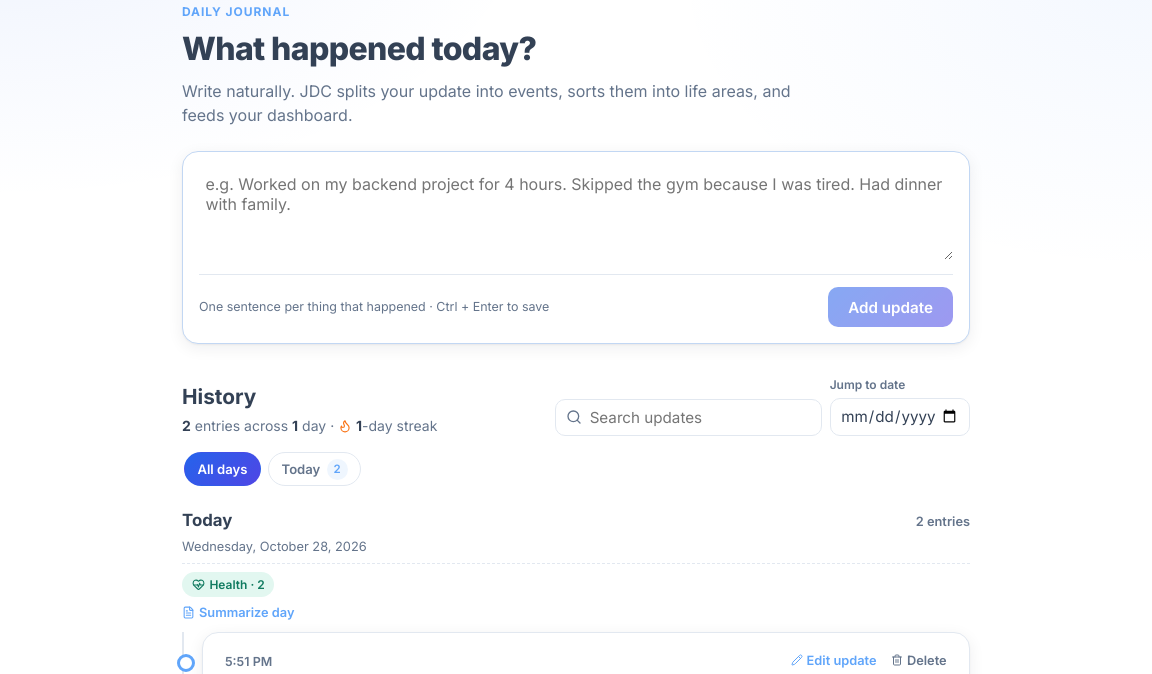
Test: Updates search › filters history by what was written or by an extracted statement
Step 1. Type "GYM" into the search field named "Search your updates" → x=688, y=417, box [555, 398, 822, 436]
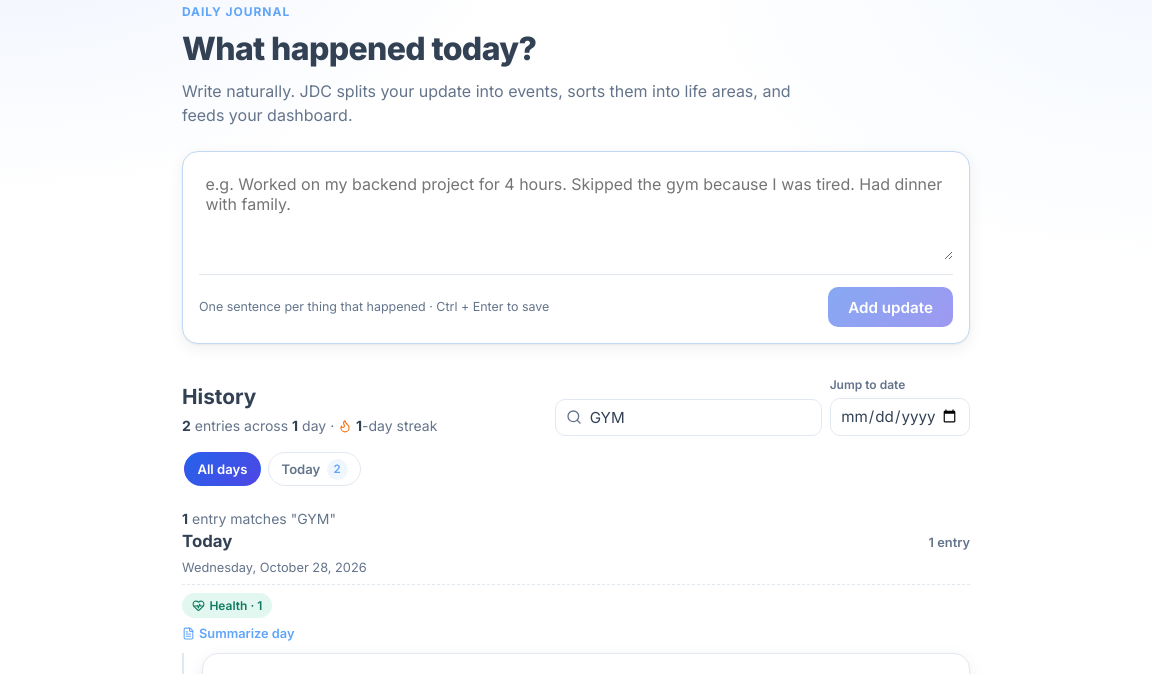
Expected: the text "1 entry matches \"GYM\"" is shown, [182, 510, 336, 527]
Step 2. Replace the text in the search field named "Search your updates" with "payment" → x=688, y=417, box [555, 398, 822, 436]
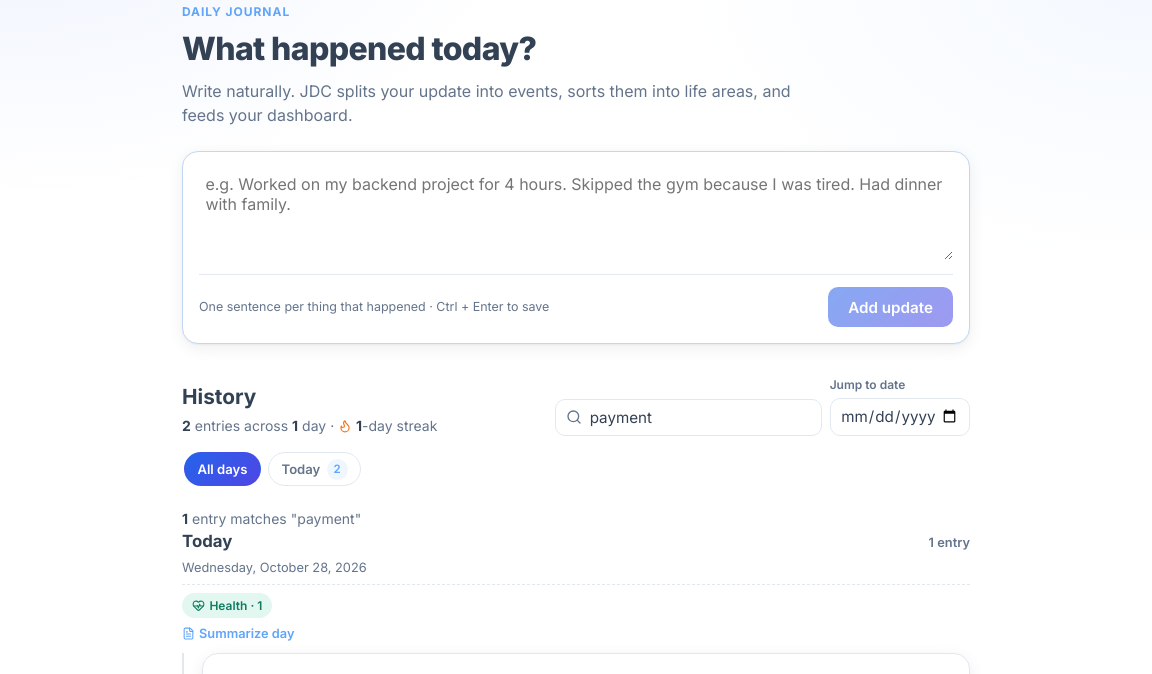
Expected: the list item "Went to the gym" is not shown
Step 3. Replace the text in the search field named "Search your updates" with "swimming" → x=688, y=417, box [555, 398, 822, 436]
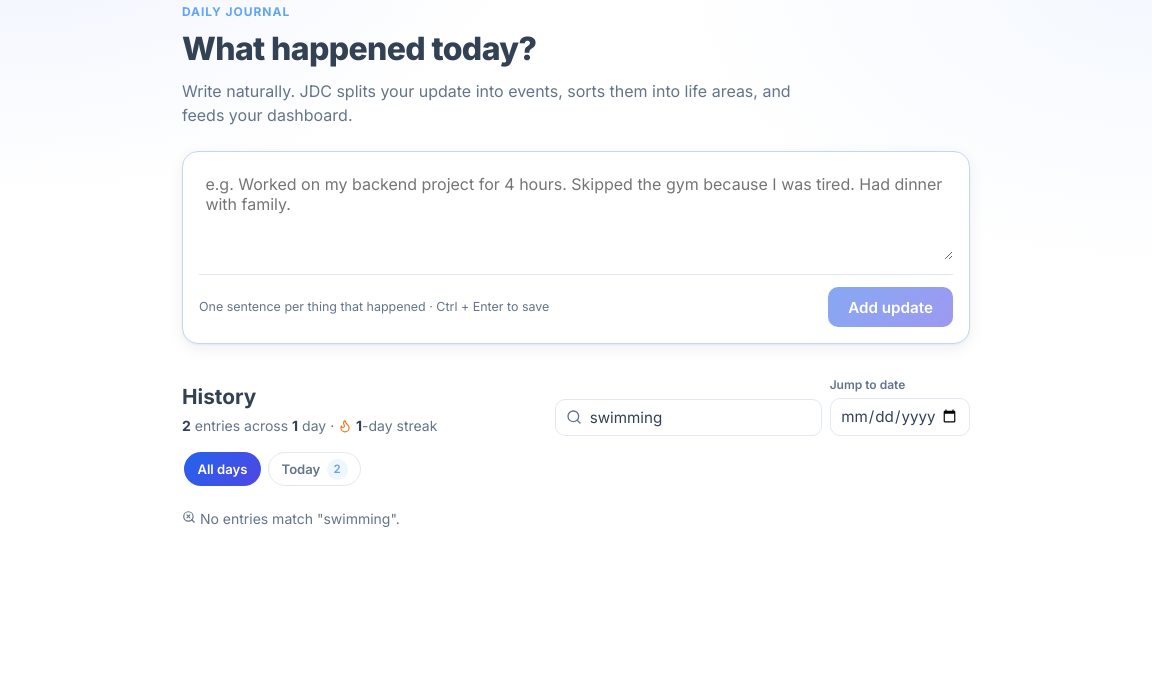
Expected: the text "No entries match \"swimming\"." is shown, [182, 510, 400, 527]
Step 4. Clear the search field named "Search your updates" → x=688, y=417, box [555, 398, 822, 436]
(page scrolled)
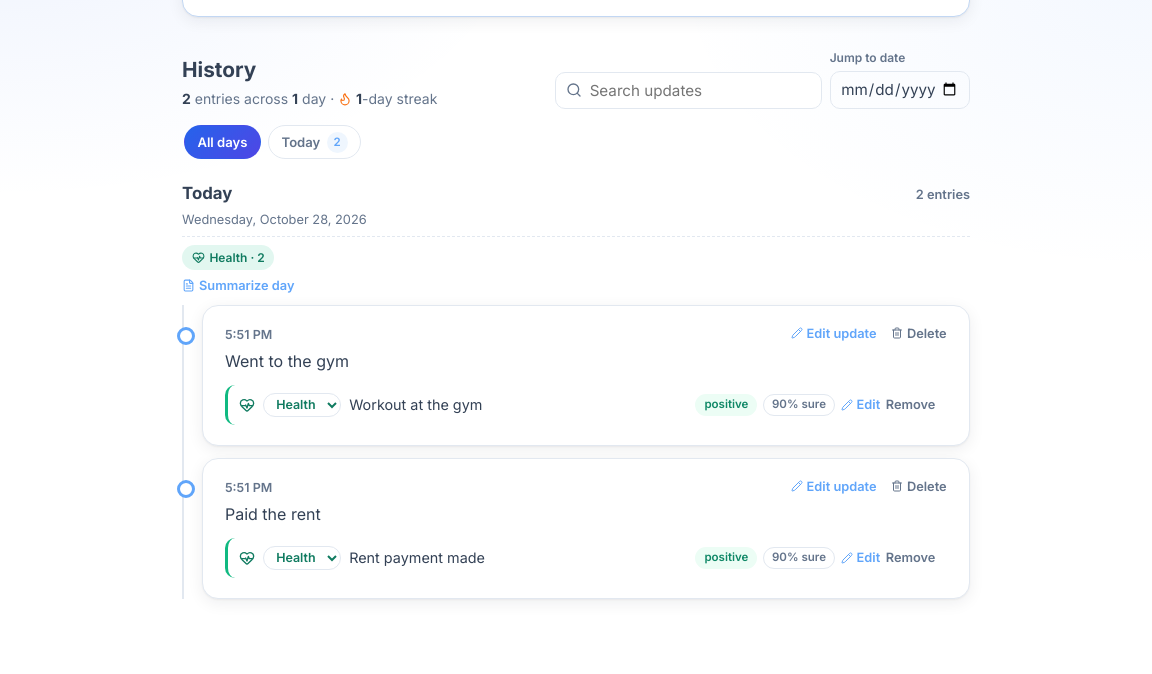
Expected: the text "Went to the gym" is shown, [225, 351, 349, 371]
Expected: the text "Paid the rent" is shown, [225, 504, 321, 524]
